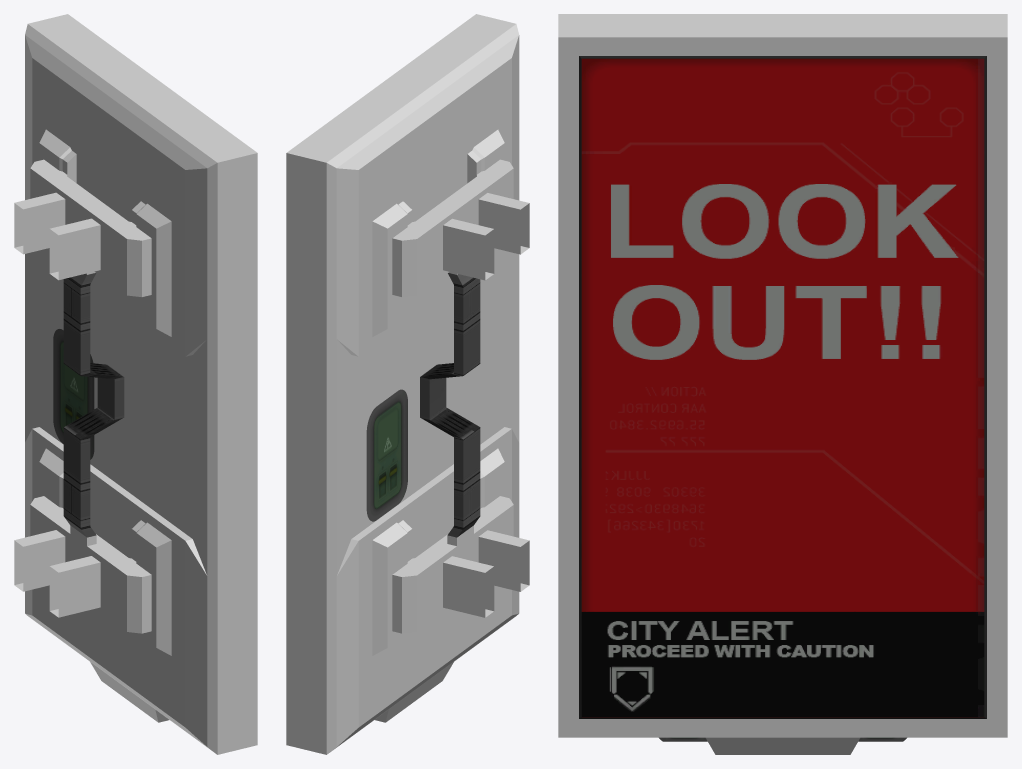
The model's file is sign-warning.obj.
3 views of the same model, side by side, from view 1: azimuth 30°, elevation 25°; view 2: azimuth 150°, elevation 25°; view 3: azimuth 270°, elevation 25° (orthographic). The views are drawn at different scales.
Parts seen in each view (by area): view 1: Mesh1 NM_Sign_Variety_C1 Model, Mesh2 NM_Sign_Variety_C1 Model; view 2: Mesh1 NM_Sign_Variety_C1 Model, Mesh2 NM_Sign_Variety_C1 Model; view 3: Mesh1 NM_Sign_Variety_C1 Model.
Part boxes in pixels (x1,y1,x2,y2): Mesh1 NM_Sign_Variety_C1 Model: (14,14,257,754); Mesh2 NM_Sign_Variety_C1 Model: (53,329,94,459); Mesh1 NM_Sign_Variety_C1 Model: (286,14,529,754); Mesh2 NM_Sign_Variety_C1 Model: (366,389,407,521); Mesh1 NM_Sign_Variety_C1 Model: (558,14,1007,754).
Size of the model in its own units: 1.39 by 6.37 by 3.59.
